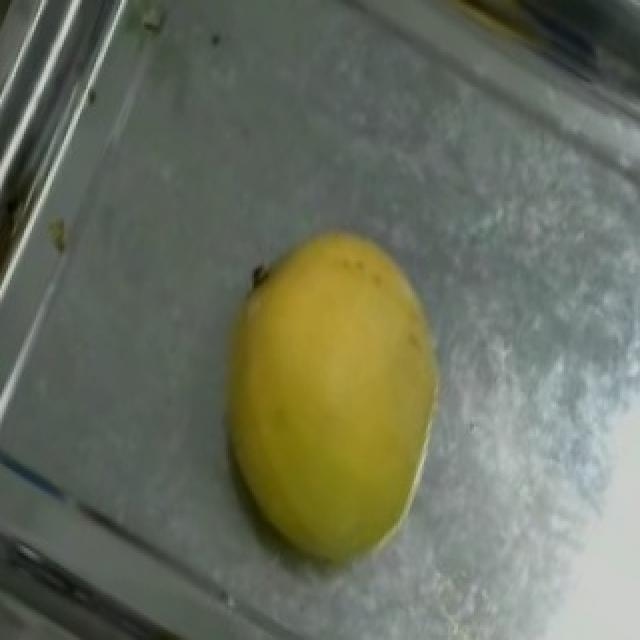fruit: (160, 186, 520, 585)
